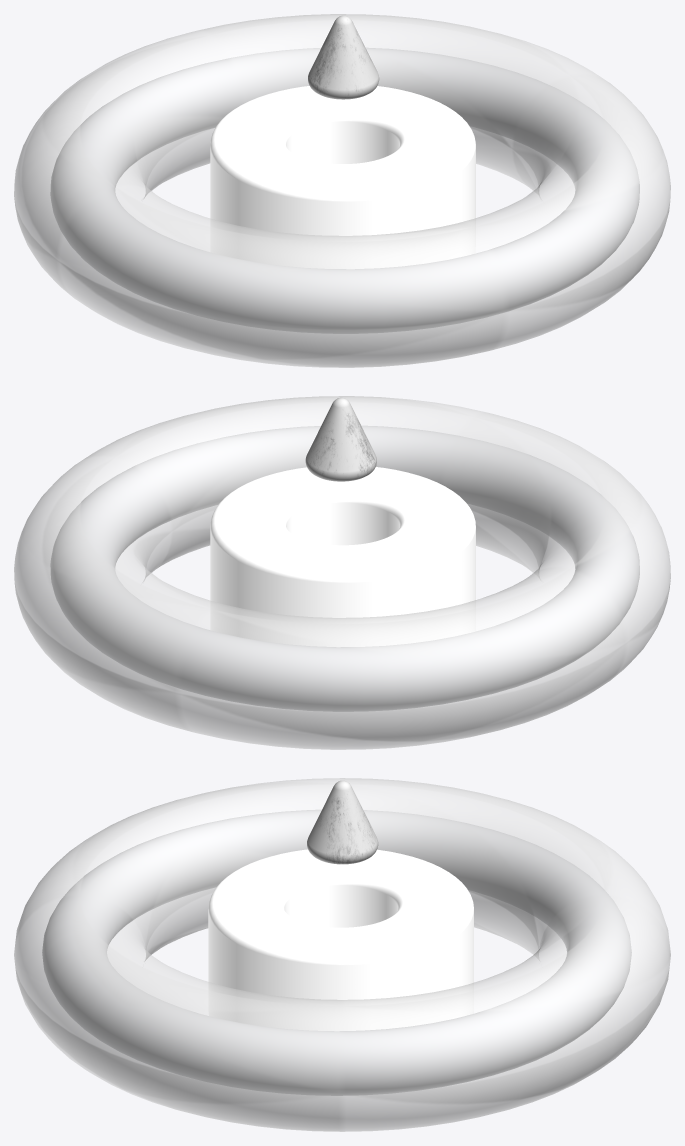
Rendered from GlassDougnutCommunicationUnit-wht-v61.glb.
3 renders of one model, top to bottom at view 1: azimuth 30°, elevation 25°; view 2: azimuth 150°, elevation 25°; view 3: azimuth 270°, elevation 25°, orthographic.
Parts seen in each view (by area): view 1: Torus, Torus 1, Tube, Cone; view 2: Torus, Torus 1, Tube, Cone; view 3: Torus, Torus 1, Tube, Cone.
Boxes of the visible parts, box(x1,y1,x2,y2) form: Torus: box(14, 14, 670, 367); Torus 1: box(50, 47, 639, 333); Tube: box(210, 86, 475, 268); Cone: box(308, 15, 379, 99); Torus: box(14, 396, 670, 749); Torus 1: box(50, 425, 639, 711); Tube: box(210, 467, 475, 647); Cone: box(305, 397, 376, 481); Torus: box(14, 778, 670, 1131); Torus 1: box(42, 809, 631, 1095); Tube: box(208, 849, 473, 1030); Cone: box(307, 780, 378, 864).
Size of the model in its own units: 2.7 by 1.09 by 2.7.
Materials: 4 (2 with a texture image).
